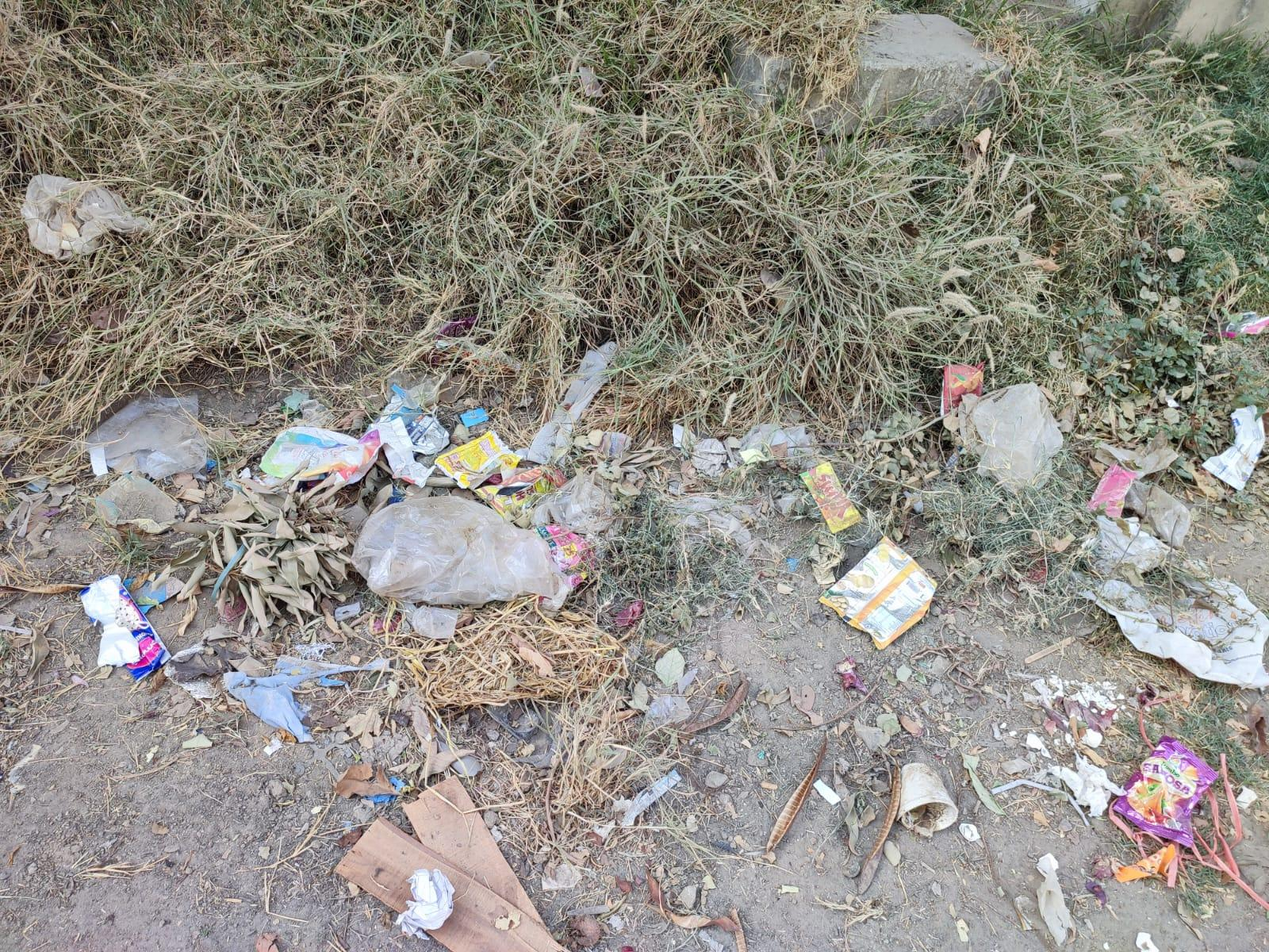garbage: (60, 328, 1194, 665), (1113, 736, 1232, 856)
